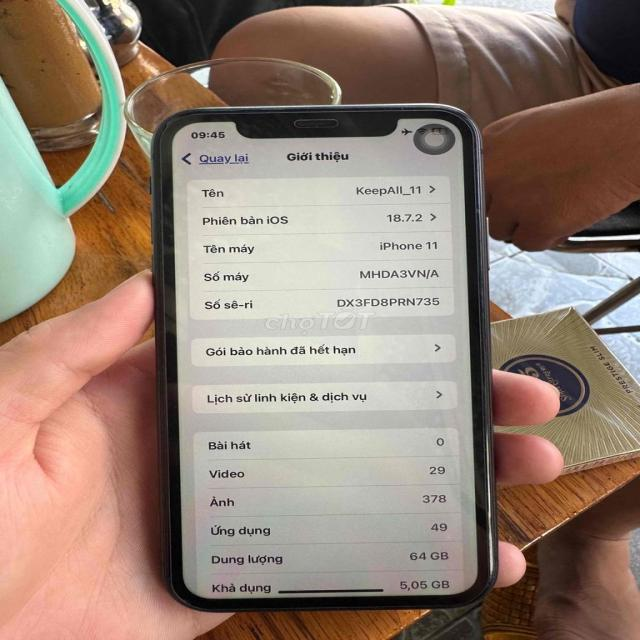scratch: (480, 420, 501, 580)
